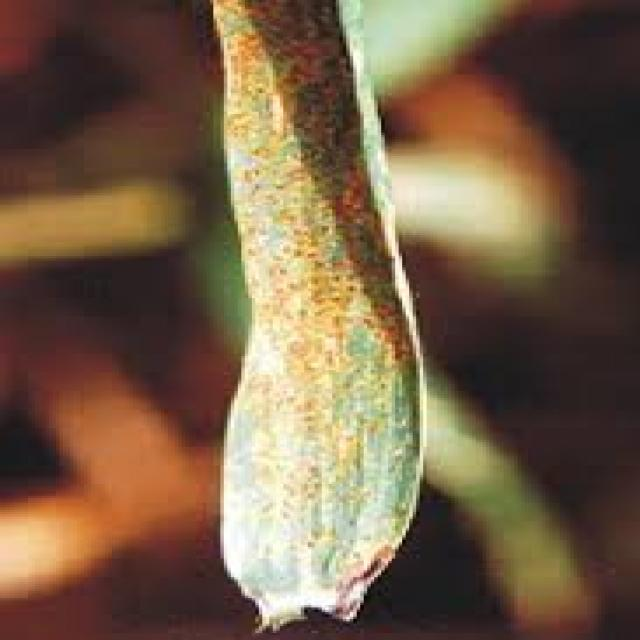leaf rust: (217, 4, 430, 417)
